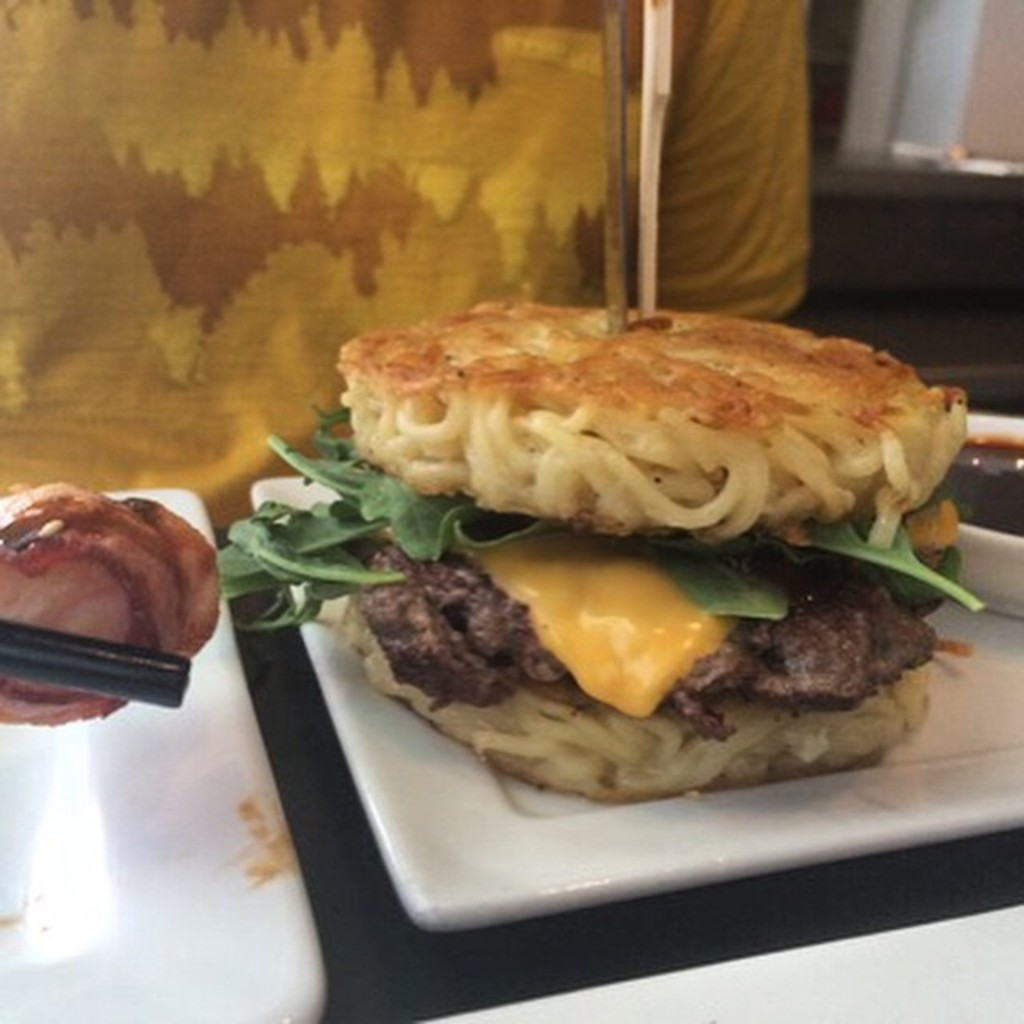Hamburger: (220, 299, 979, 796)
